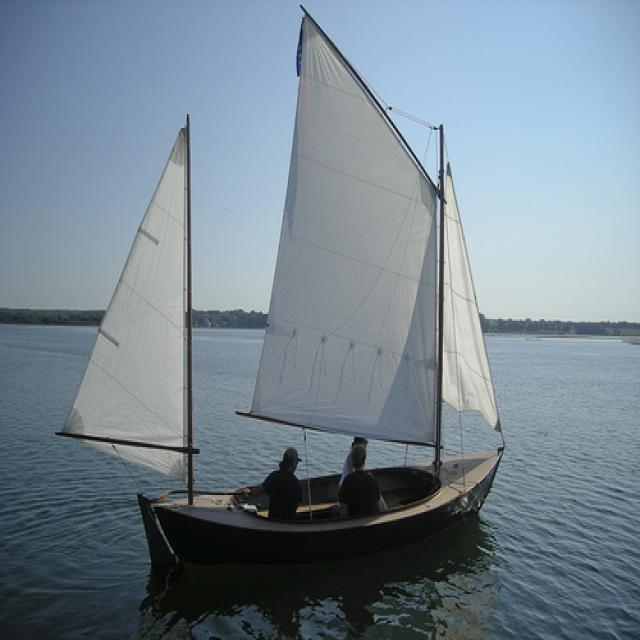Ship: (63, 13, 507, 573)
